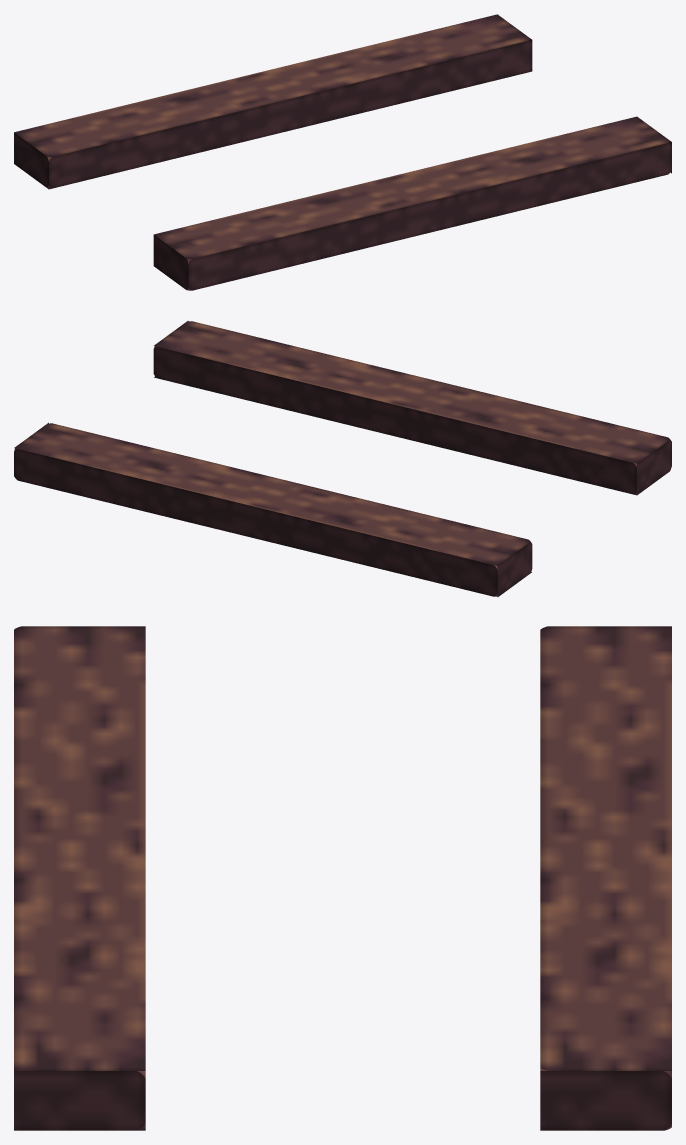
File: Ceiling_2x2_Support.fbx
The picture shows the model from 3 angles, top to bottom: view 1: azimuth 30°, elevation 25°; view 2: azimuth 150°, elevation 25°; view 3: azimuth 270°, elevation 25°; orthographic projection. The views are drawn at different scales.
Parts seen in each view (by area): view 1: Ceiling_2x2_Support; view 2: Ceiling_2x2_Support; view 3: Ceiling_2x2_Support.
Boxes of the visible parts, x1,y1,x2,y2 form: Ceiling_2x2_Support: (14,14,671,290); Ceiling_2x2_Support: (14,321,671,596); Ceiling_2x2_Support: (14,626,671,1130).
Size of the model in its own units: 400 by 25 by 250.
Materials: 1 (1 with a texture image).
